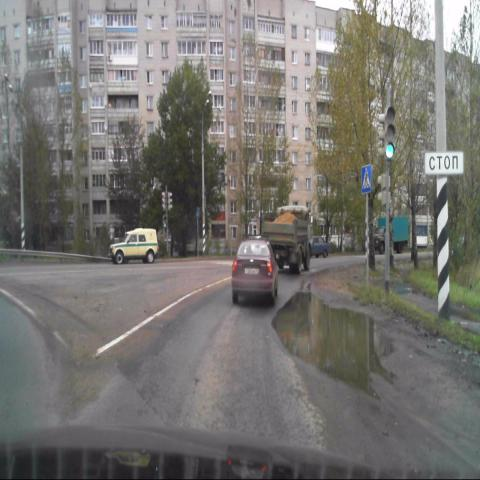6_16: (425, 153, 463, 174)
